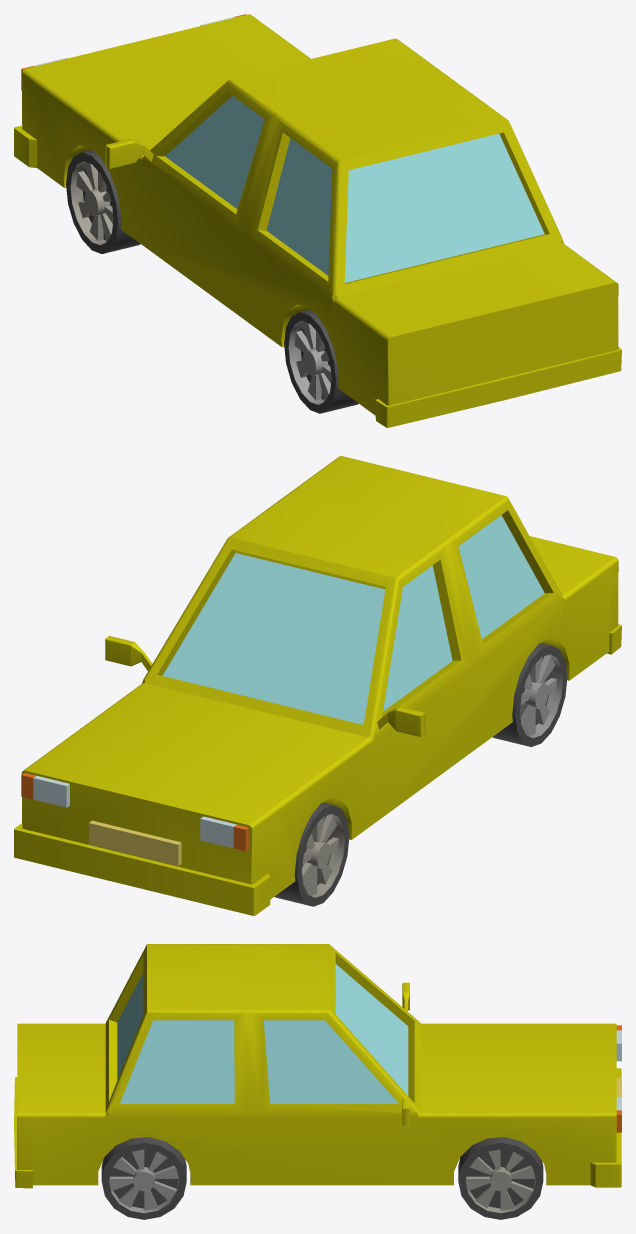
File: CocheV2_amarillo.fbx
3 views of the same model, one above another, from view 1: azimuth 30°, elevation 25°; view 2: azimuth 150°, elevation 25°; view 3: azimuth 270°, elevation 25° (orthographic). The views are drawn at different scales.
Parts seen in each view (by area): view 1: Cube, Cylinder, Cylinder.002, Cube.002; view 2: Cube, Cylinder.002, Cylinder, Cube.001, Cube.003, Cube.002; view 3: Cube, Cylinder.002, Cylinder, Cube.002, Cube.001.
Boxes of the visible parts, x1,y1,x2,y2 form: Cube: (14,14,621,427); Cylinder: (66,150,140,253); Cylinder.002: (284,309,358,413); Cube.002: (105,139,153,169); Cube: (14,456,621,915); Cylinder.002: (492,643,567,746); Cylinder: (274,802,349,906); Cube.001: (21,773,248,851); Cube.003: (89,820,181,866); Cube.002: (105,636,425,737); Cube: (14,944,621,1188); Cylinder.002: (101,1137,186,1219); Cylinder: (458,1137,543,1219); Cube.002: (402,982,409,1126); Cube.001: (616,1025,621,1132).
Bounding box in the file's own units: 274 × 199 × 558.
